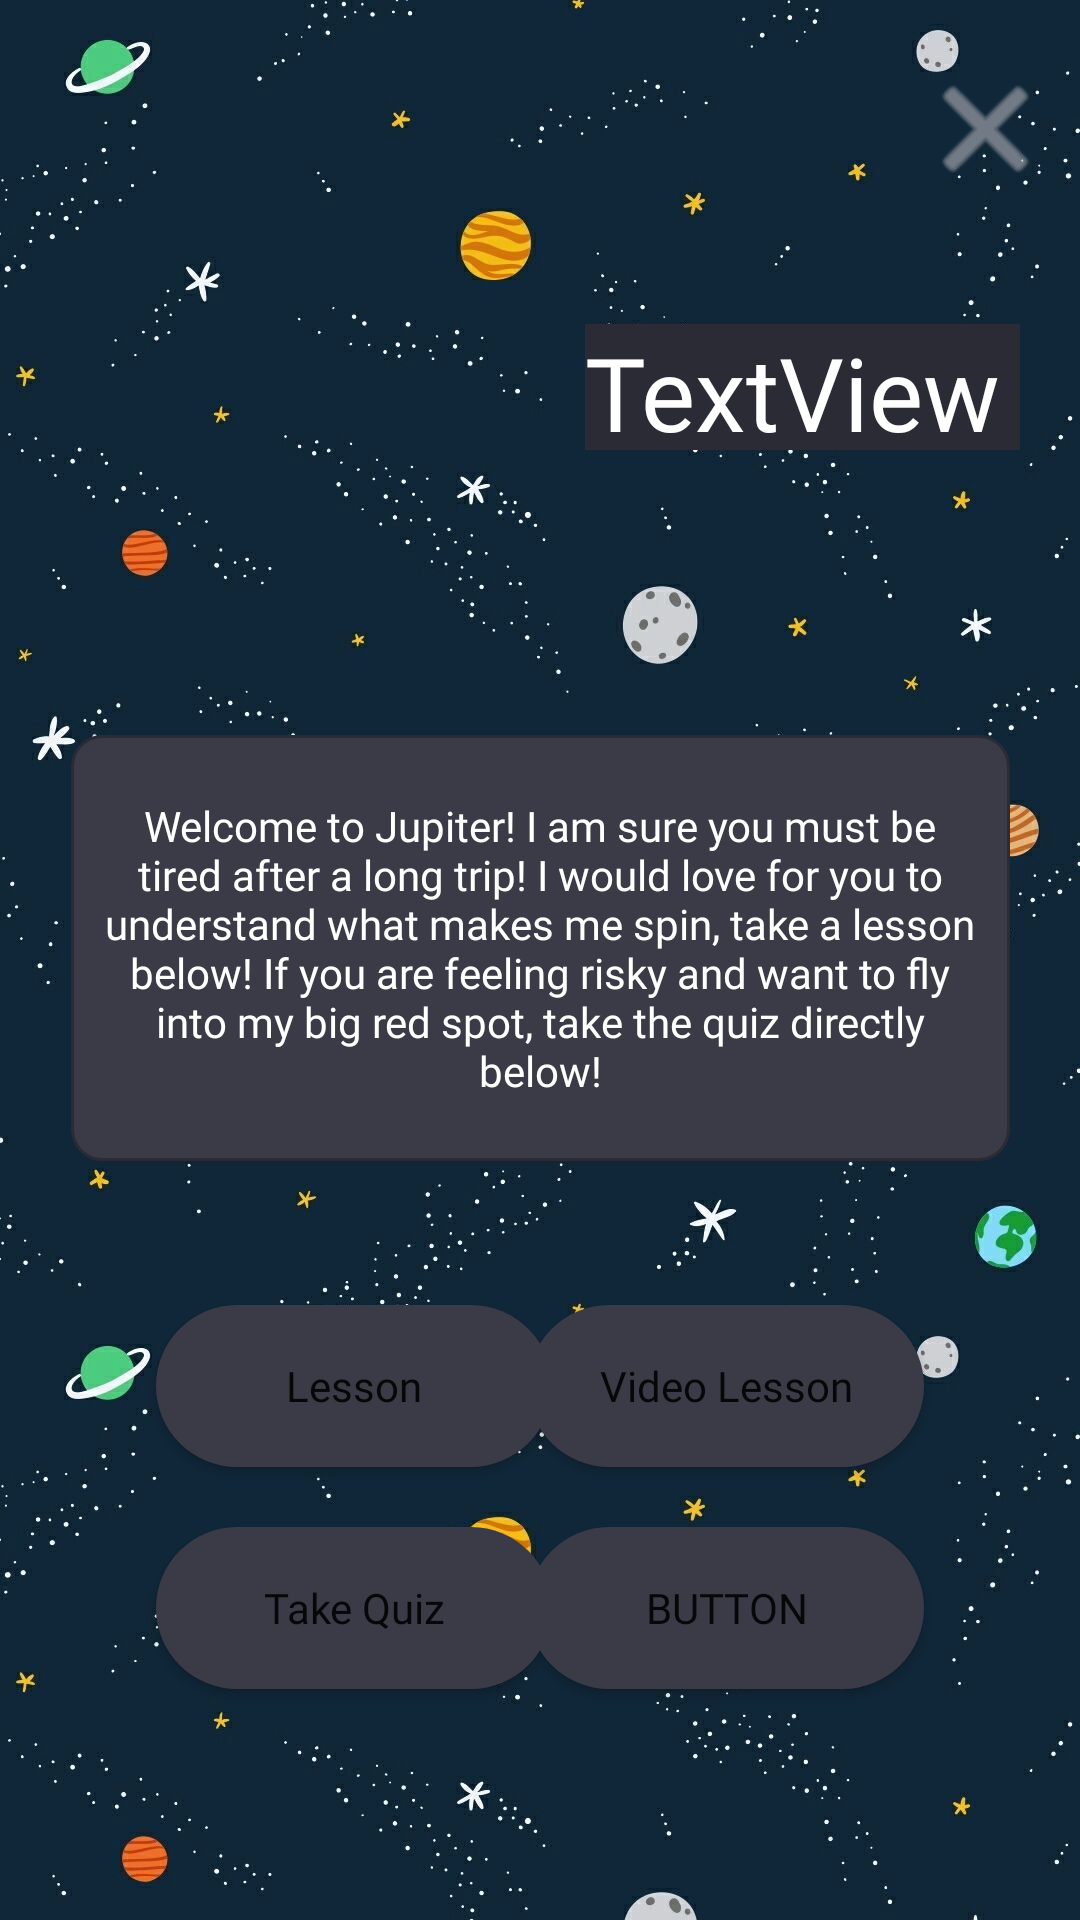

Icons on this 1080 x 1920 Android screen, each with its box as (x1, y1, x2, y2):
close clear cancel: (920, 69, 1056, 190)
